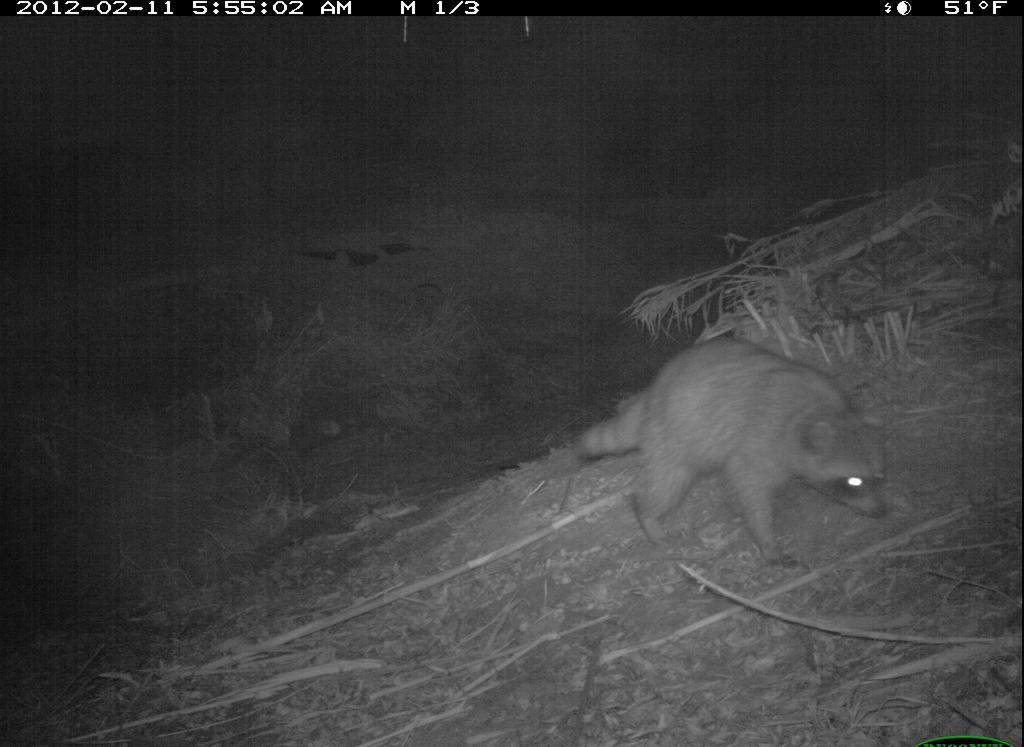raccoon: (559, 323, 911, 577)
